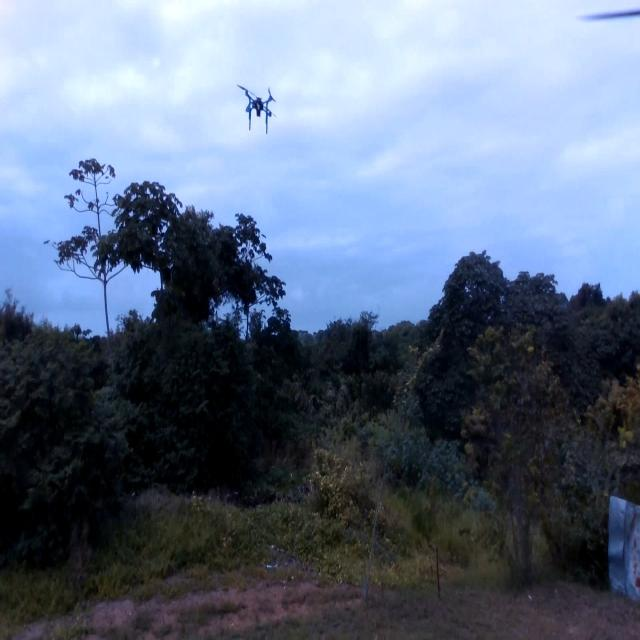-uav-: (230, 67, 282, 146)
